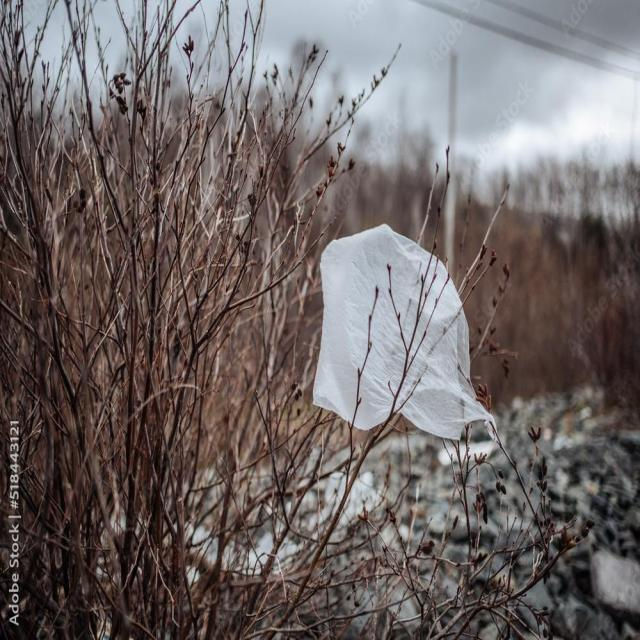Plastic_Bag: (314, 227, 488, 452)
